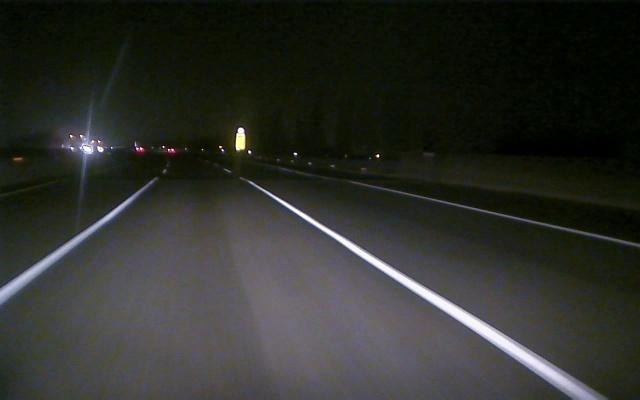lane: (243, 178, 605, 396), (1, 179, 157, 304), (377, 186, 640, 248)
